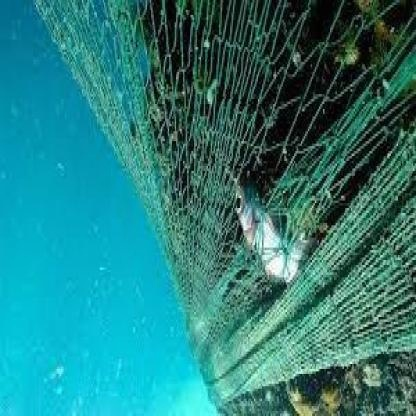net: (76, 2, 416, 369)
